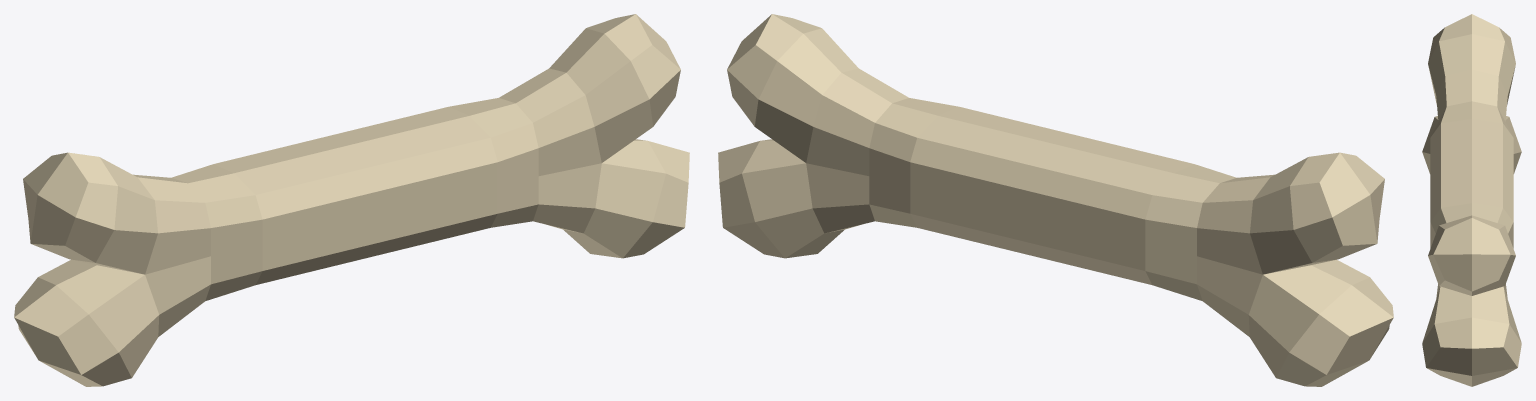
Rendered from Bone.fbx.
3 views of the same model, side by side, from view 1: azimuth 30°, elevation 25°; view 2: azimuth 150°, elevation 25°; view 3: azimuth 270°, elevation 25° (orthographic). The views are drawn at different scales.
Parts seen in each view (by area): view 1: Bone; view 2: Bone; view 3: Bone.
Part boxes in pixels (x1,y1,x2,y2): Bone: [14, 14, 689, 386]; Bone: [718, 14, 1393, 386]; Bone: [1422, 14, 1521, 386].
Size of the model in its own units: 102 by 34.37 by 17.68.
